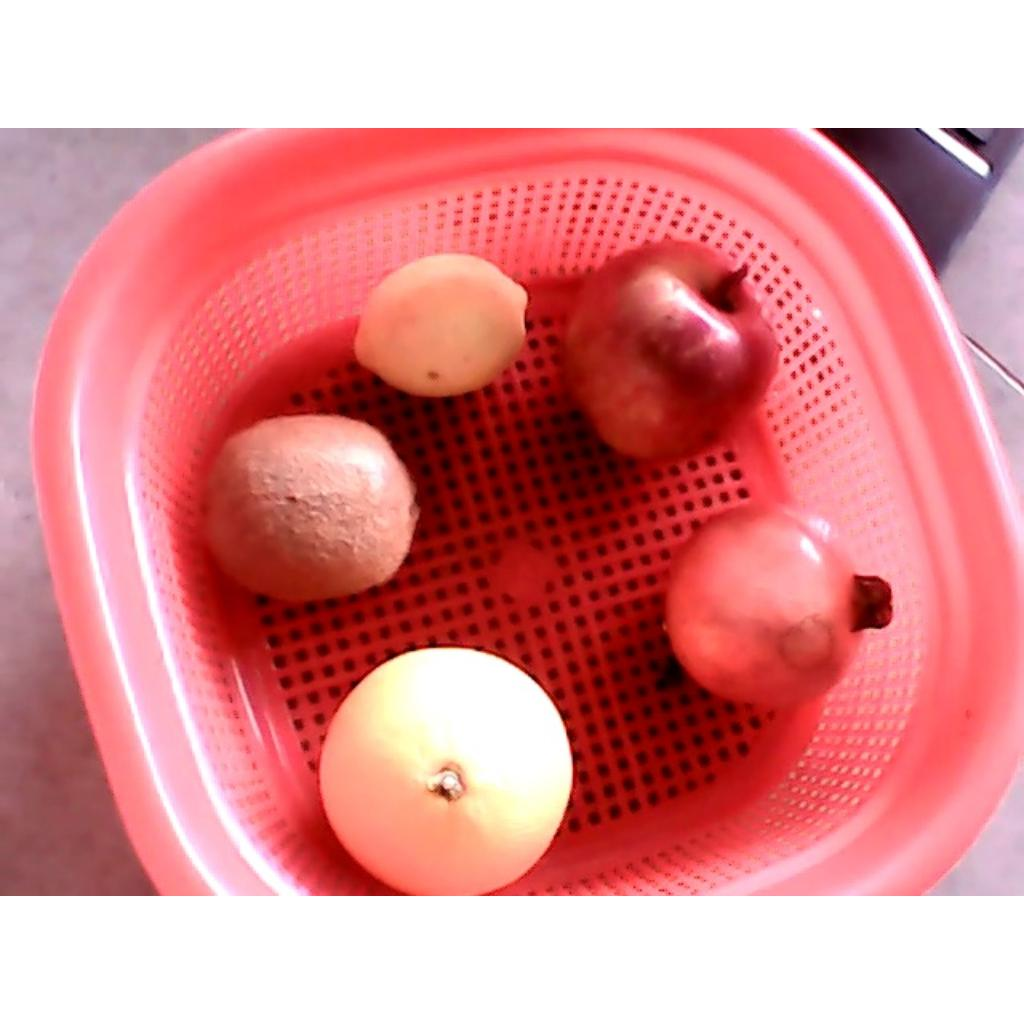apple: (561, 240, 781, 463)
kiwi: (200, 414, 418, 601)
lemon: (354, 252, 531, 398)
orange: (317, 647, 574, 894)
pomegranate: (665, 504, 894, 710)
